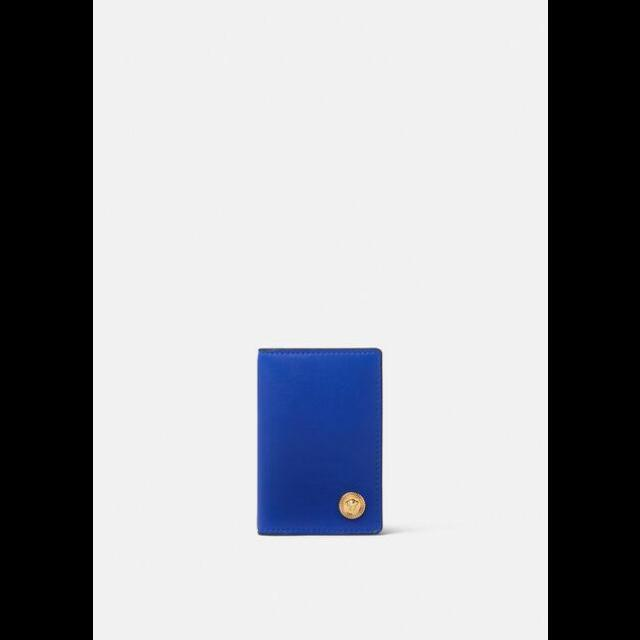wallet: (245, 338, 395, 544)
